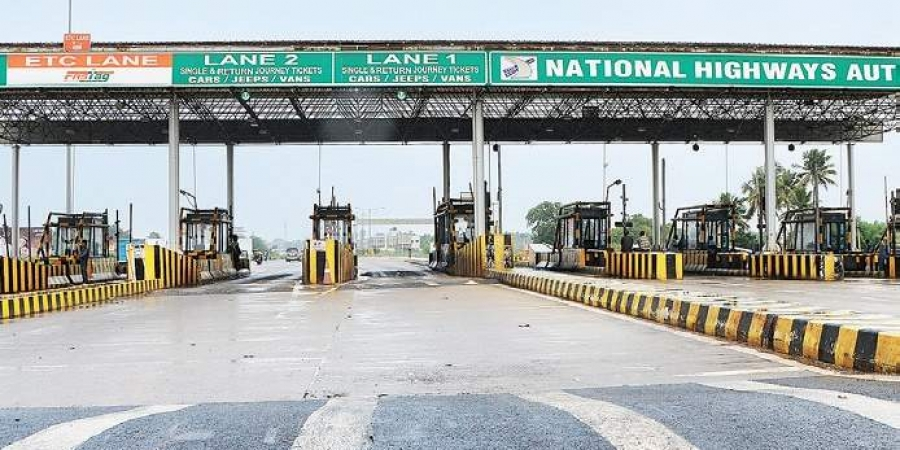toll plaza: (171, 34, 900, 140), (39, 193, 888, 279)
